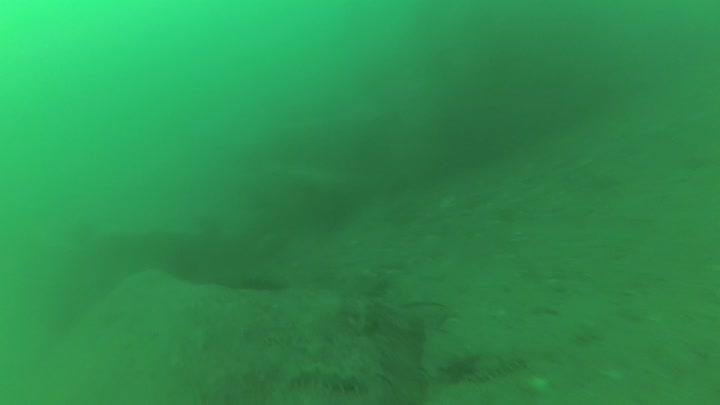holothurian: (285, 360, 372, 397), (214, 260, 301, 297), (448, 348, 528, 386), (369, 299, 428, 336), (347, 291, 379, 342)
